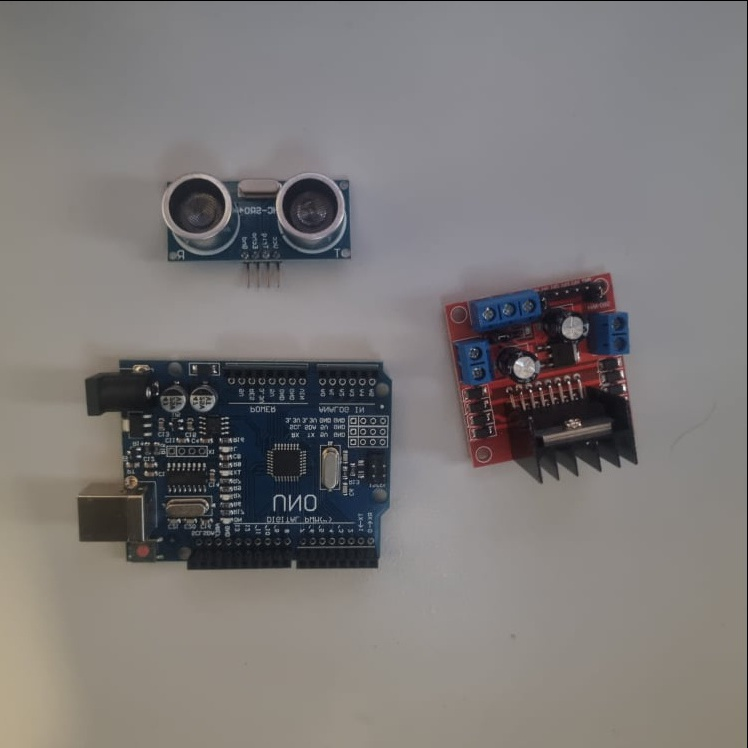MOTOR: (443, 270, 647, 480)
SENSOR: (165, 164, 356, 291)
UNO R3: (79, 355, 396, 572)
